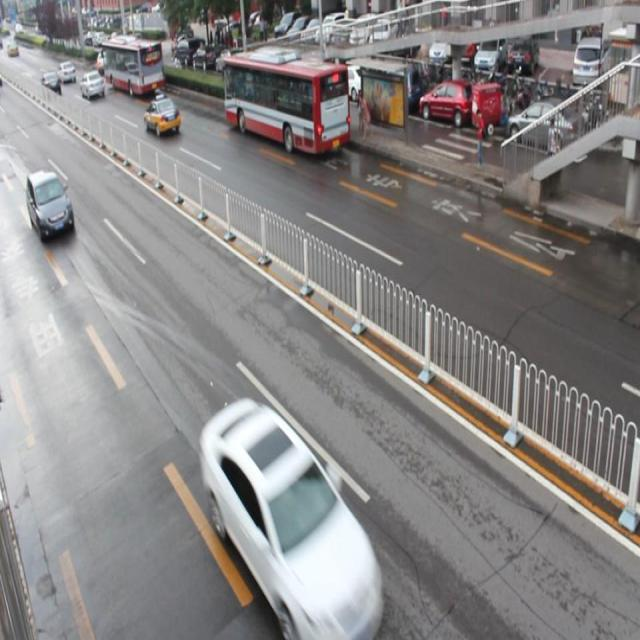car: (200, 397, 384, 640), (144, 94, 181, 138)
truck: (27, 167, 75, 241)
van: (224, 52, 348, 154)
